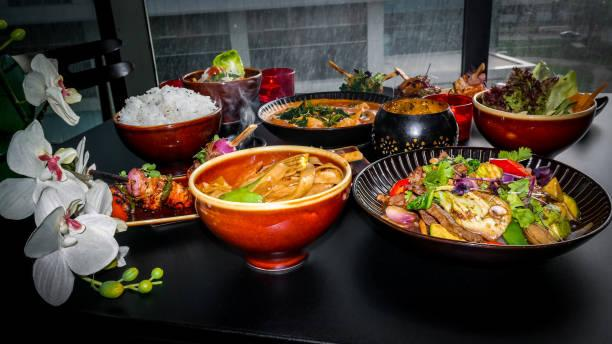Braised Crucian Carp: (351, 145, 608, 259), (188, 146, 351, 273), (471, 61, 603, 155), (106, 81, 225, 168), (257, 91, 391, 148), (369, 95, 462, 143)
